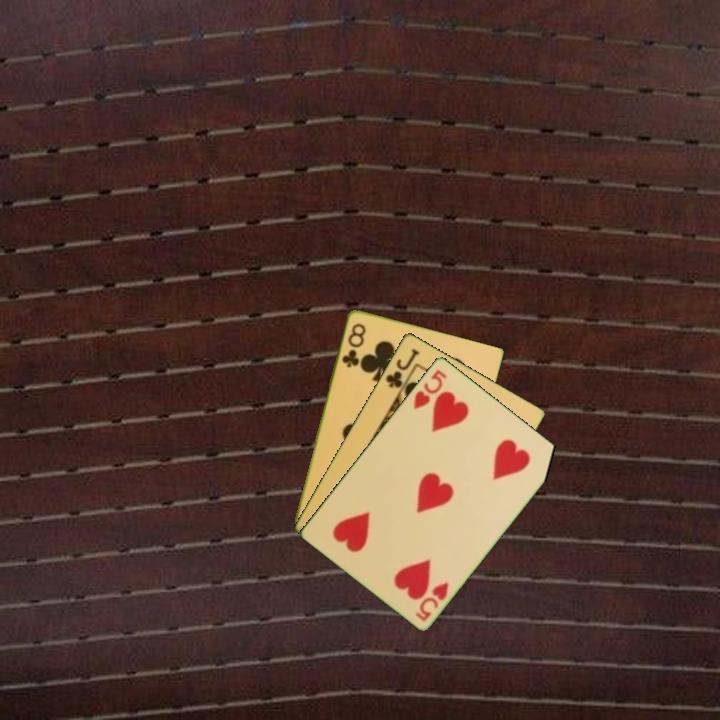5h: (410, 365, 450, 412), (412, 578, 452, 624)
8c: (338, 319, 369, 370)
Jc: (382, 344, 422, 391)
